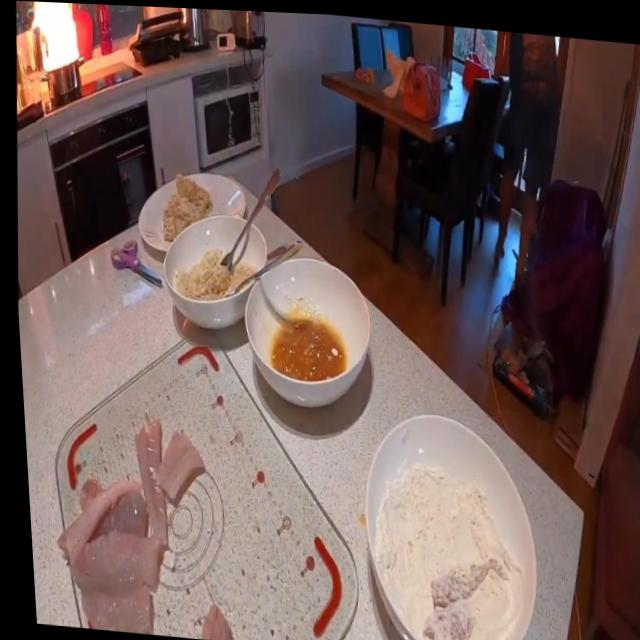fire: (20, 1, 88, 76)
